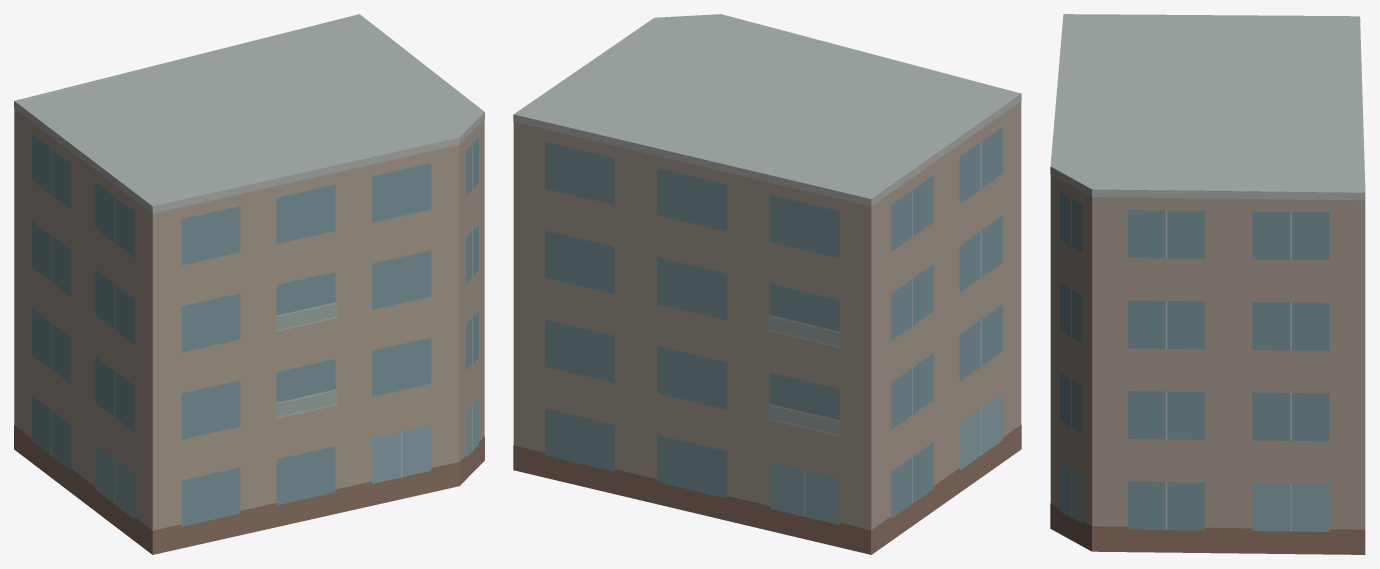
File: survey-upis-32957722.glb
3 renders of one model, left to right at view 1: azimuth 30°, elevation 25°; view 2: azimuth 150°, elevation 25°; view 3: azimuth 270°, elevation 25°, orthographic. The views are drawn at different scales.
Visible parts, largest first — view 1: survey-upis-32957722.tmp; view 2: survey-upis-32957722.tmp; view 3: survey-upis-32957722.tmp.
Part boxes in pixels (<box>): survey-upis-32957722.tmp: <box>14,14,484,554</box>; survey-upis-32957722.tmp: <box>513,14,1021,554</box>; survey-upis-32957722.tmp: <box>1050,14,1365,554</box>.
Bounding box in the file's own units: 12.28 × 11.6 × 9.15.
